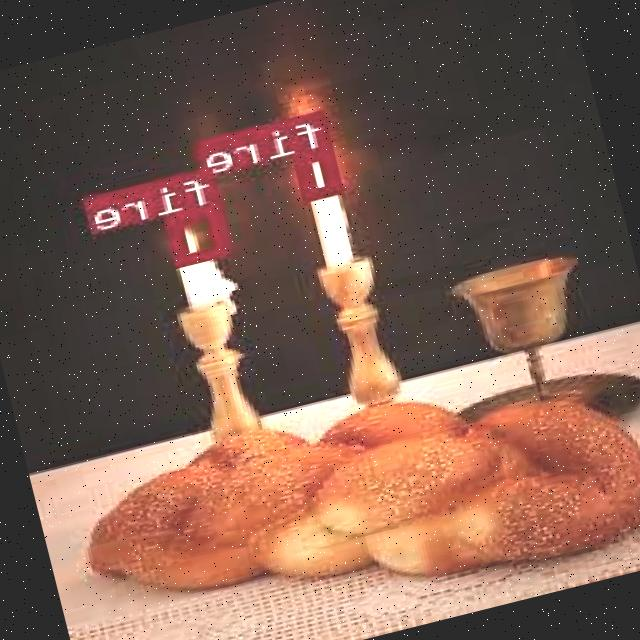fire: (166, 200, 233, 263), (295, 143, 346, 200)
